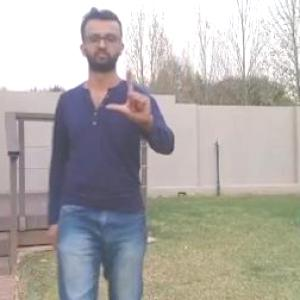land_hand: (105, 65, 157, 130)
